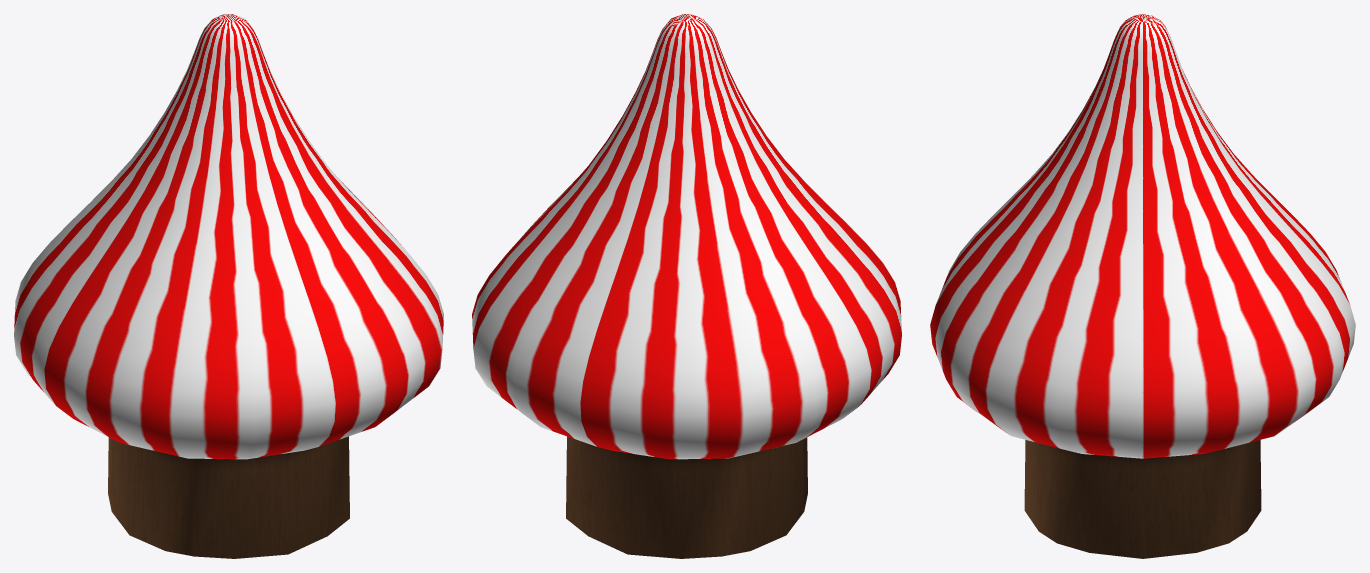
The model's file is Zwiebel_B_01.fbx.
The picture shows the model from 3 angles, left to right: view 1: azimuth 30°, elevation 25°; view 2: azimuth 150°, elevation 25°; view 3: azimuth 270°, elevation 25°; orthographic projection.
Parts seen in each view (by area): view 1: Zwiebel_B_01; view 2: Zwiebel_B_01; view 3: Zwiebel_B_01.
Boxes of the visible parts, box(x1,y1,x2,y2) form: Zwiebel_B_01: box(14, 14, 443, 558); Zwiebel_B_01: box(472, 14, 901, 558); Zwiebel_B_01: box(930, 14, 1355, 558).
Size of the model in its own units: 46.25 by 59.2 by 46.25.
